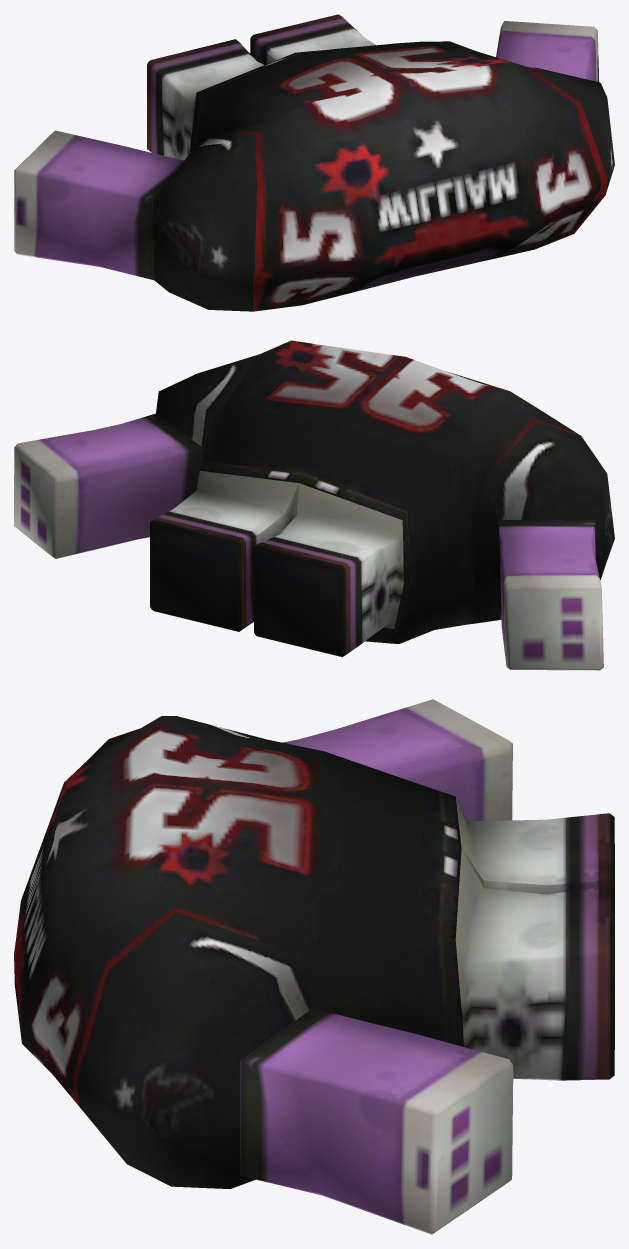
Rendered from HaoKe_B_02_High_a20e466e__HaoKe_B_02_53a222cf_c1f257.obj.
3 views of the same model, one above another, from view 1: azimuth 30°, elevation 25°; view 2: azimuth 150°, elevation 25°; view 3: azimuth 270°, elevation 25° (orthographic). The views are drawn at different scales.
Size of the model in its own units: 3.75 by 1.29 by 2.29.
1 material, 1 textured.
